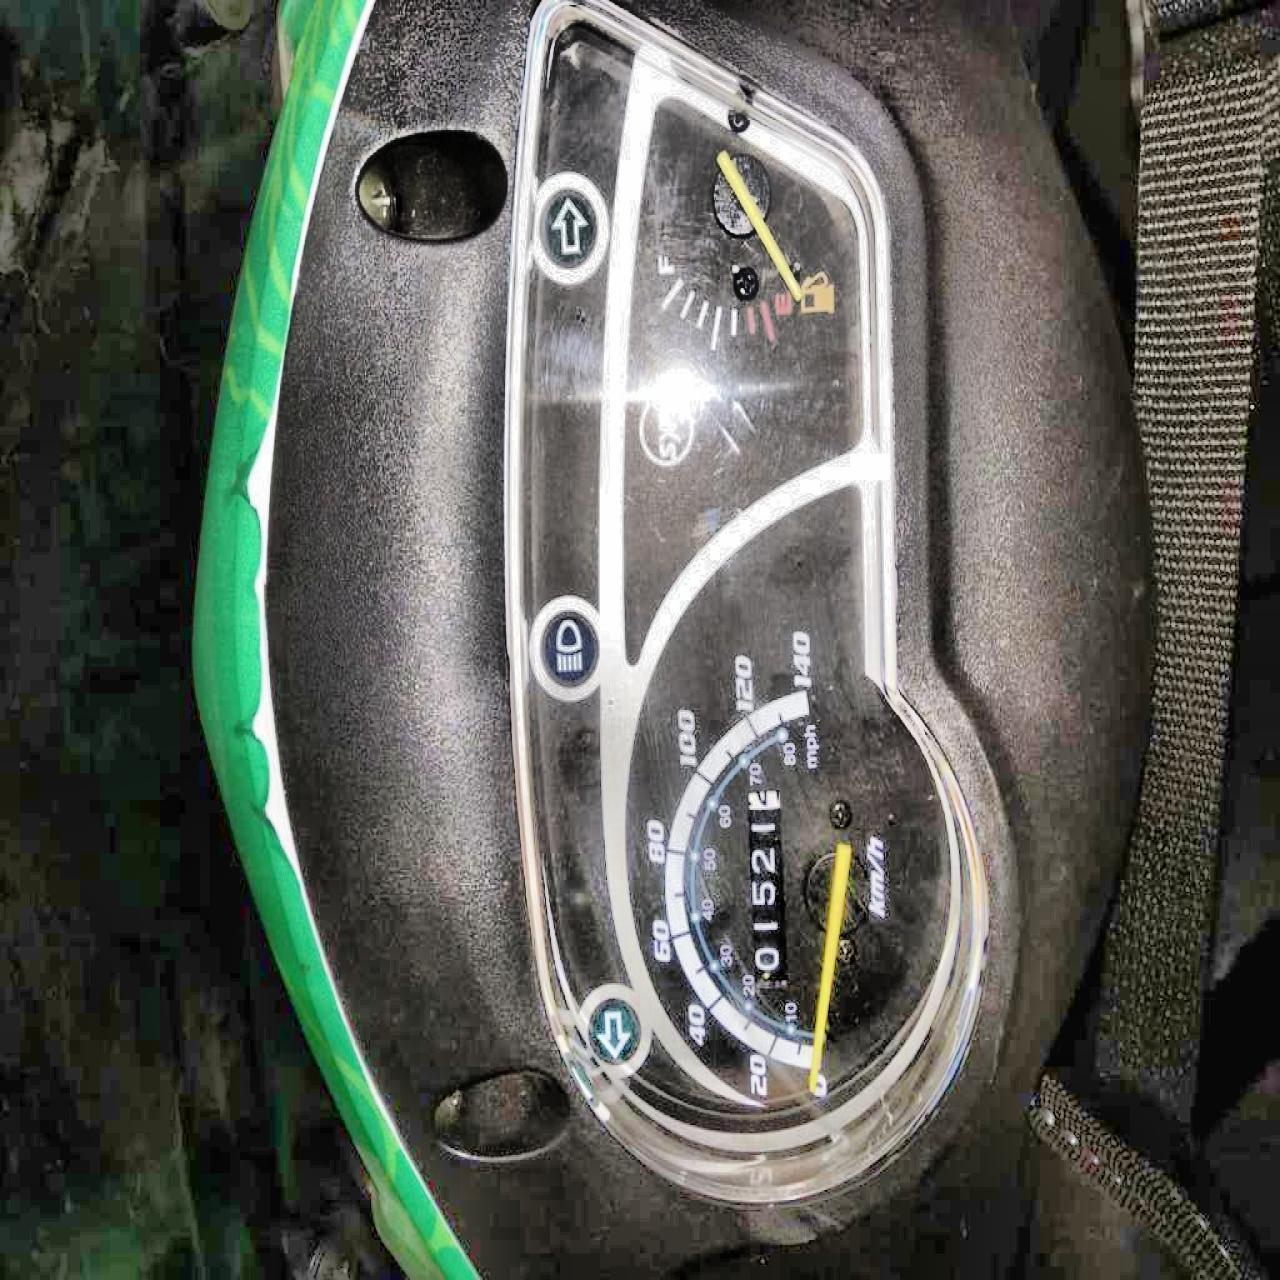0: (750, 941, 779, 972), (741, 972, 754, 986)
1: (750, 917, 779, 933), (747, 818, 775, 835)
2: (748, 844, 777, 873), (744, 787, 770, 809), (740, 985, 754, 993)
5: (747, 878, 775, 907)
odometer: (741, 783, 791, 994)
